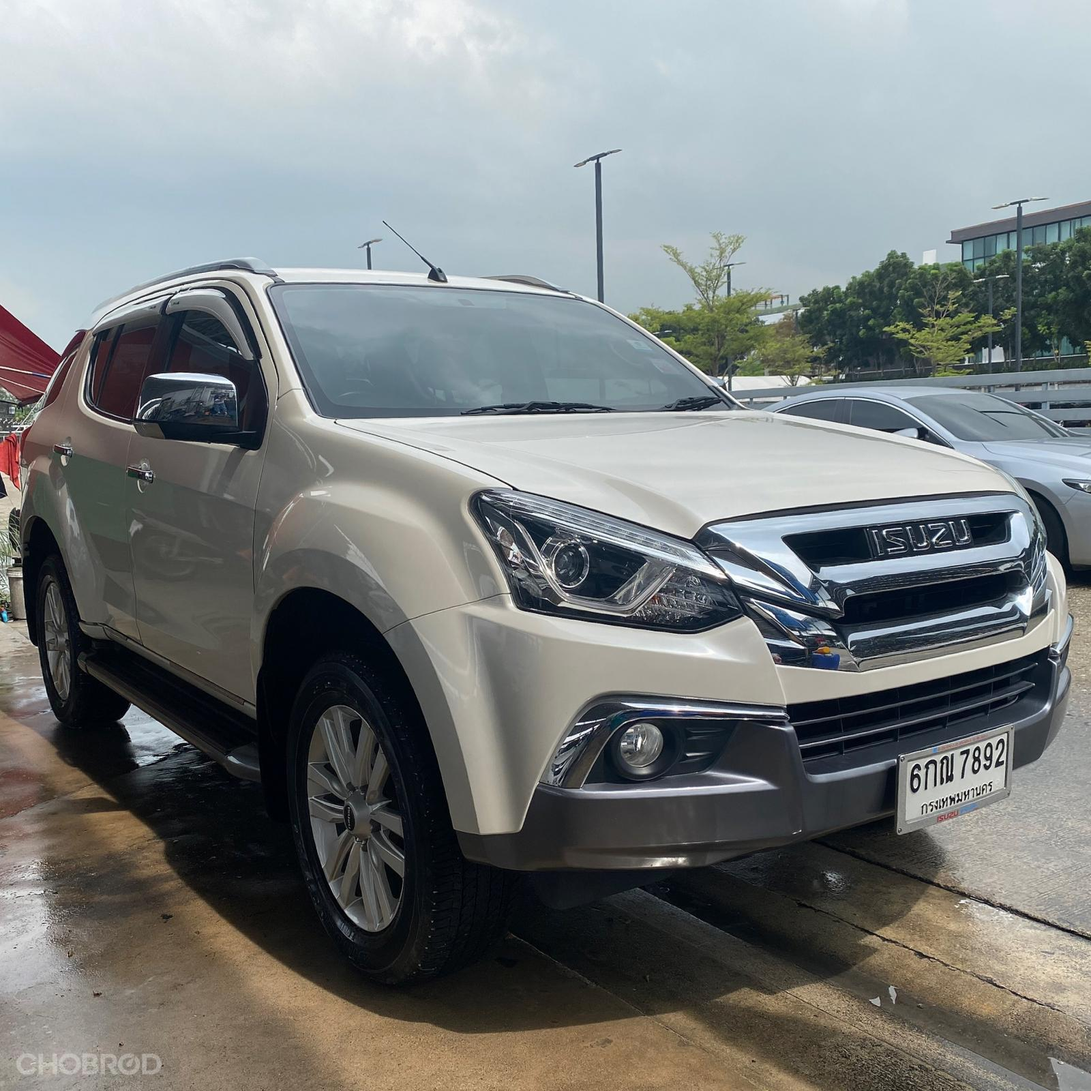license-plate: (887, 730, 1021, 839)
